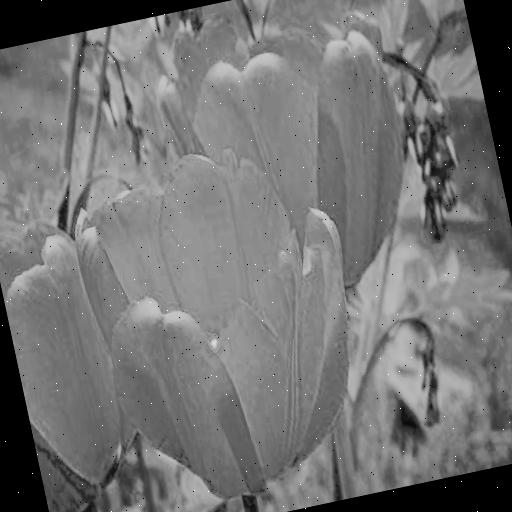tulip: (60, 124, 386, 509)
